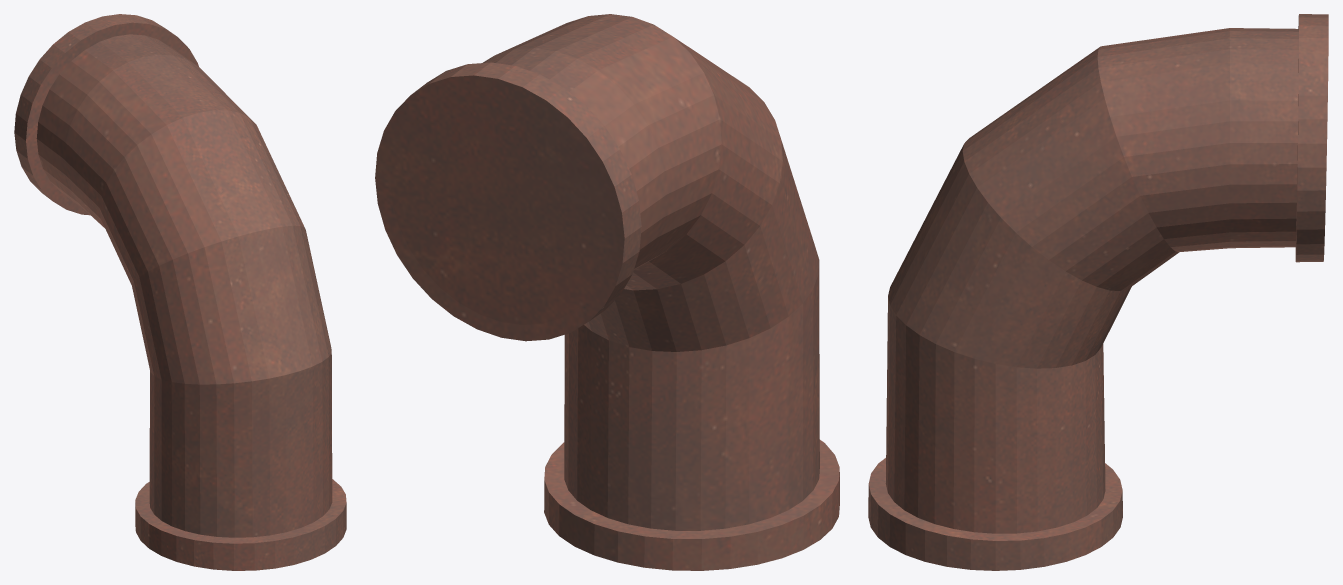
The model's file is Tuberia_2.glb.
3 renders of one model, left to right at view 1: azimuth 30°, elevation 25°; view 2: azimuth 150°, elevation 25°; view 3: azimuth 270°, elevation 25°, orthographic. The views are drawn at different scales.
Parts seen in each view (by area): view 1: Cylinder.001; view 2: Cylinder.001; view 3: Cylinder.001.
Part boxes in pixels (bbox=[...]): Cylinder.001: bbox=[14, 14, 346, 570]; Cylinder.001: bbox=[375, 14, 839, 570]; Cylinder.001: bbox=[868, 14, 1328, 570].
Size of the model in its own units: 2.31 by 4.92 by 4.18.
1 material, 1 textured.
